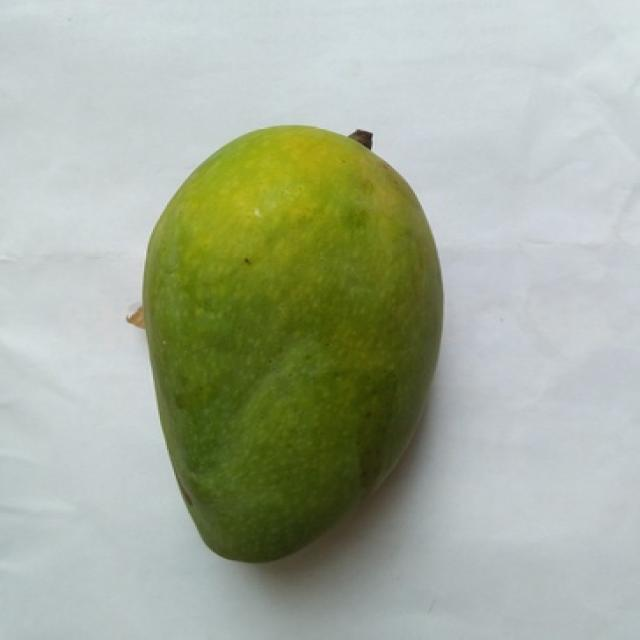Mango: (144, 127, 441, 562)
